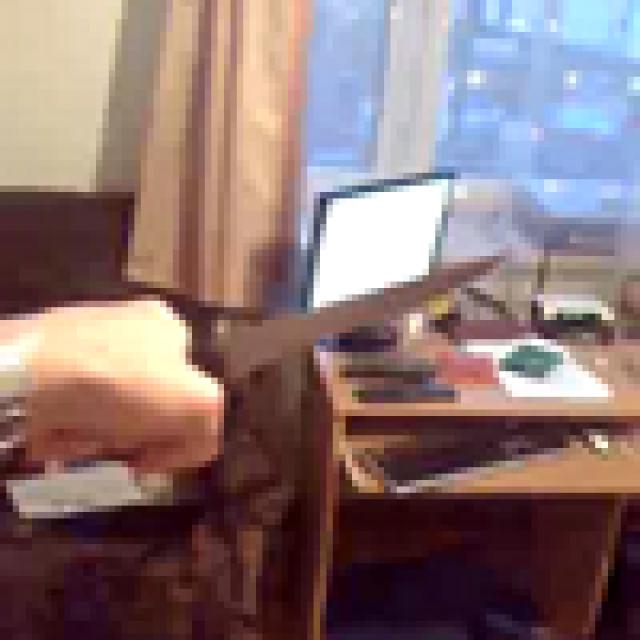Weapons: (164, 227, 517, 417)
